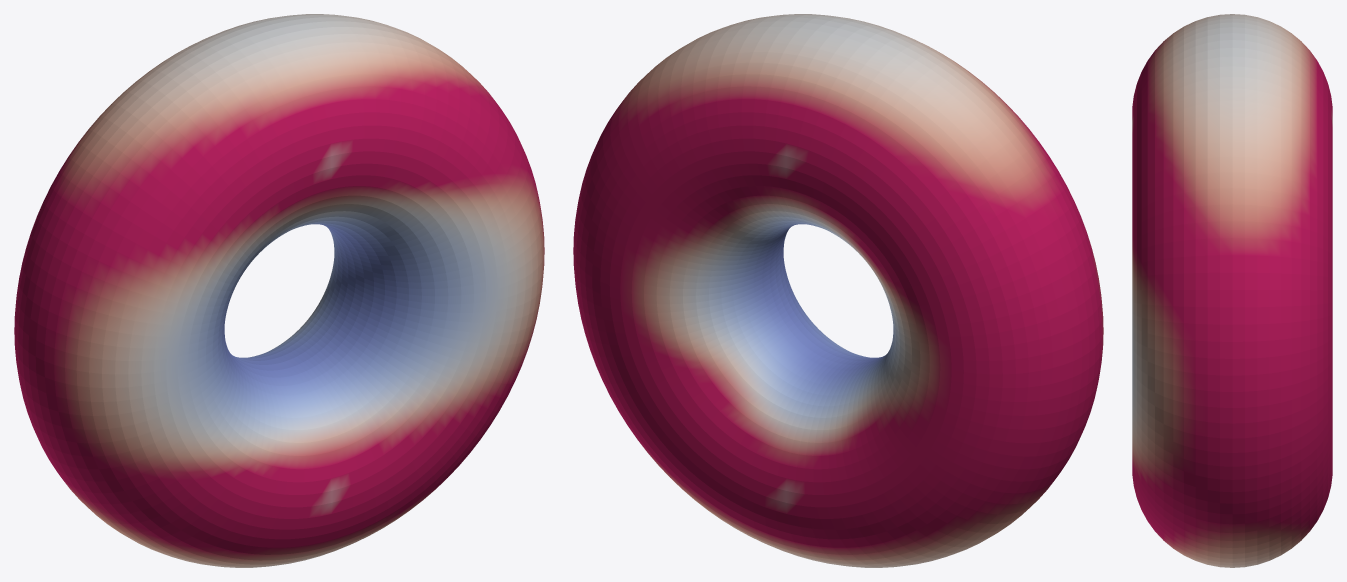
3 views of the same model, side by side, from view 1: azimuth 30°, elevation 25°; view 2: azimuth 150°, elevation 25°; view 3: azimuth 270°, elevation 25° (orthographic). The views are drawn at different scales.
Parts seen in each view (by area): view 1: world; view 2: world; view 3: world.
Part boxes in pixels (left/top/right/bottom): world: left=14, top=14, right=544, bottom=567; world: left=573, top=14, right=1103, bottom=567; world: left=1132, top=14, right=1332, bottom=567.
Size of the model in its own units: 22.67 by 22.67 by 8.21.
